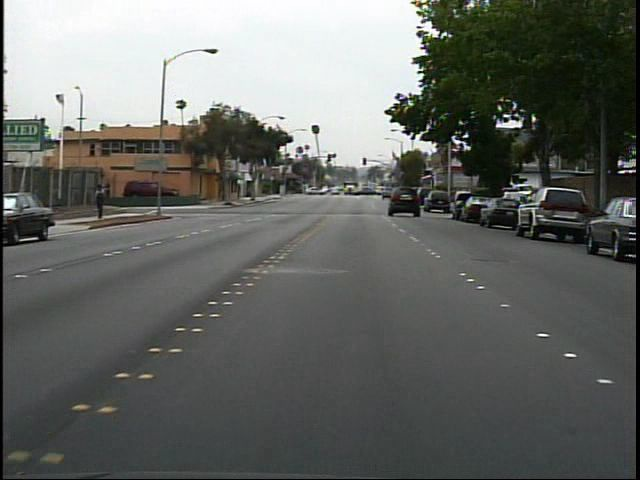person: (93, 179, 115, 223)
